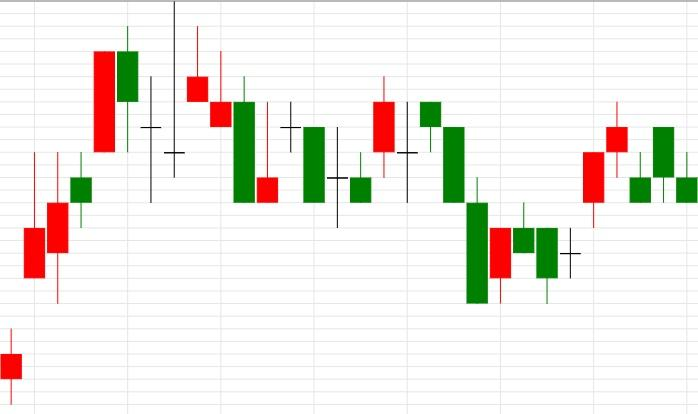inverse_hammer_rise: (186, 26, 279, 203)
three_black_crows_fall: (349, 76, 489, 305)
